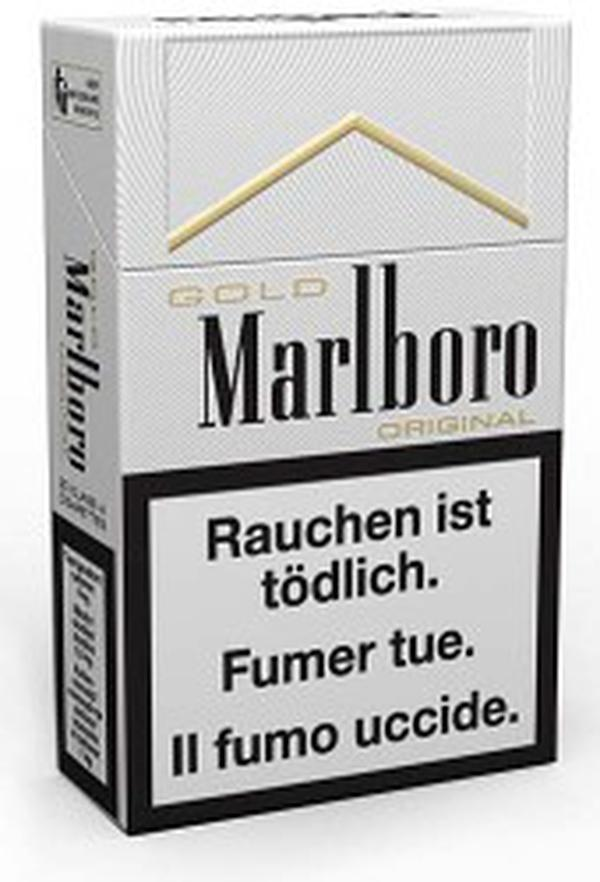marlboro_gold: (118, 31, 554, 762)
